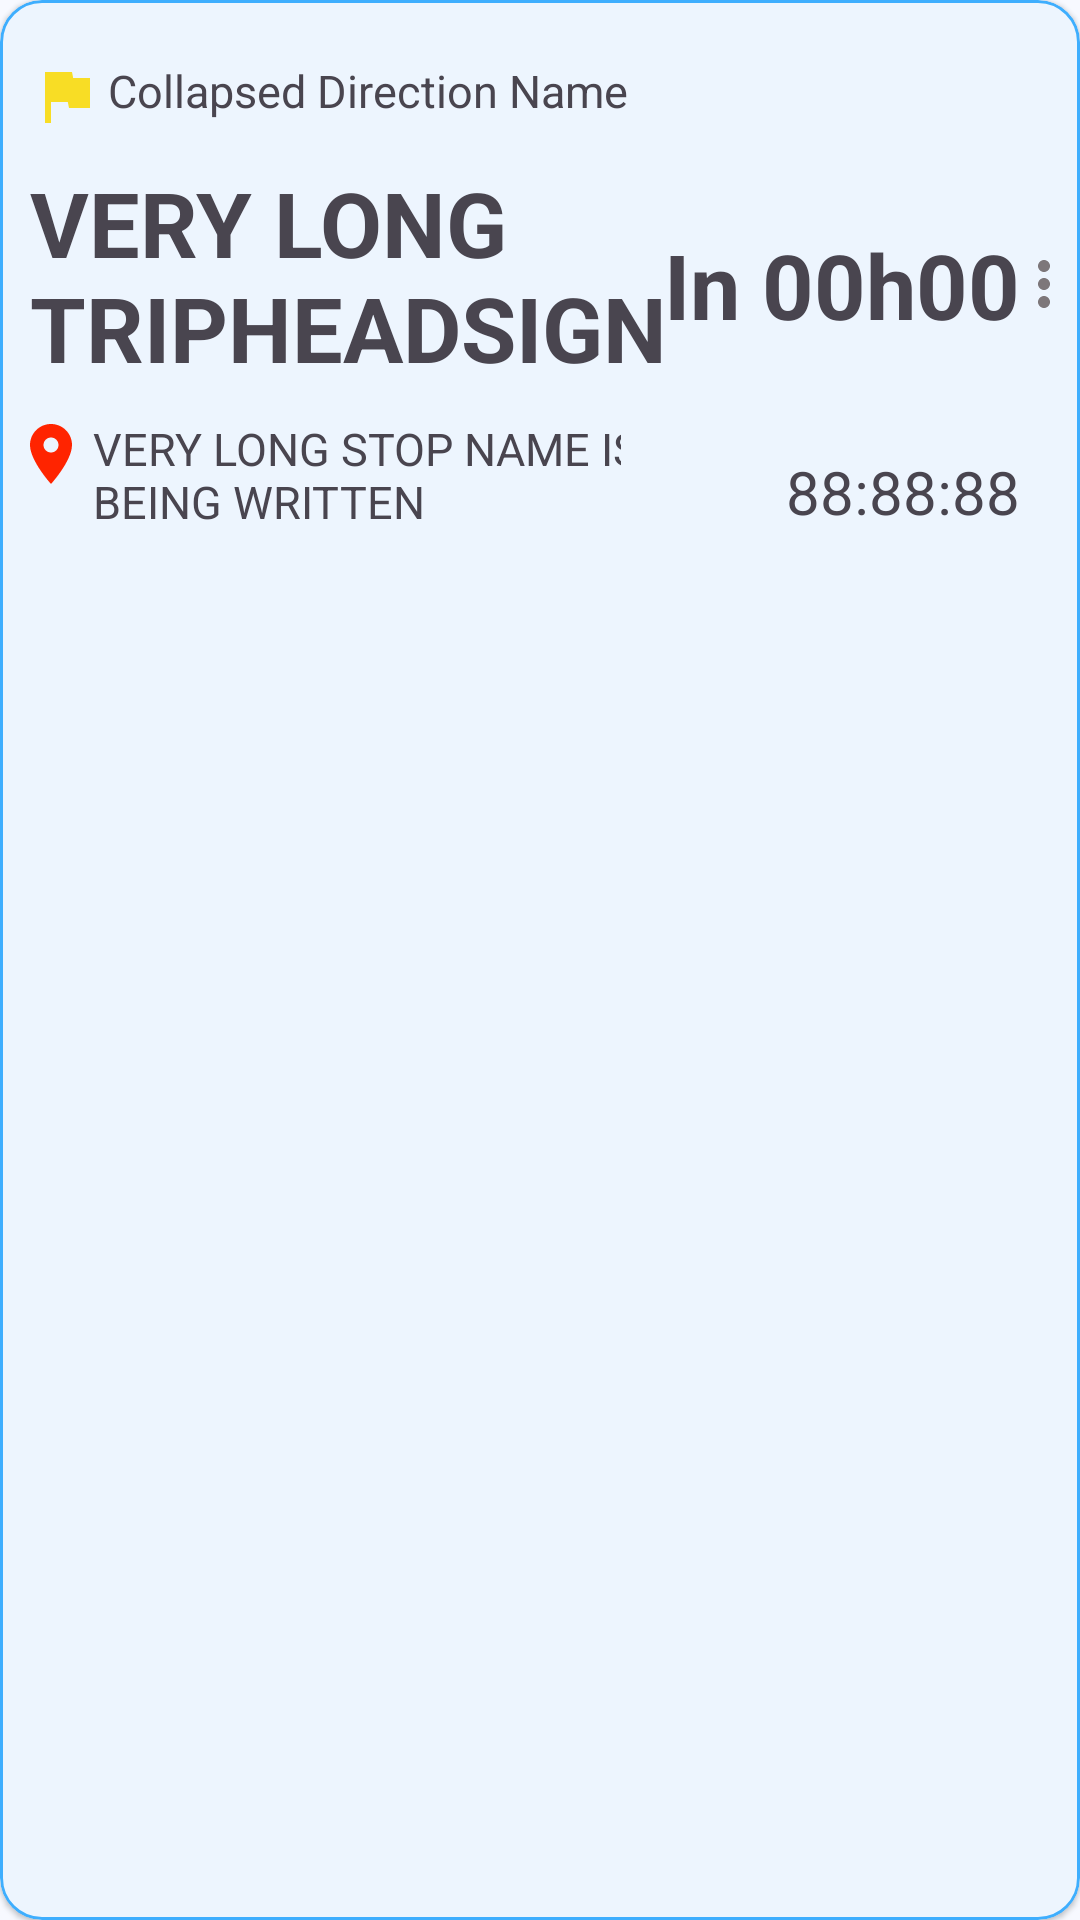

Named icons in this screenshot (1080px x 1920px) and their centers, (x,y):
Image for bus direction: (67,97)
Image for bus stop name: (51,454)
